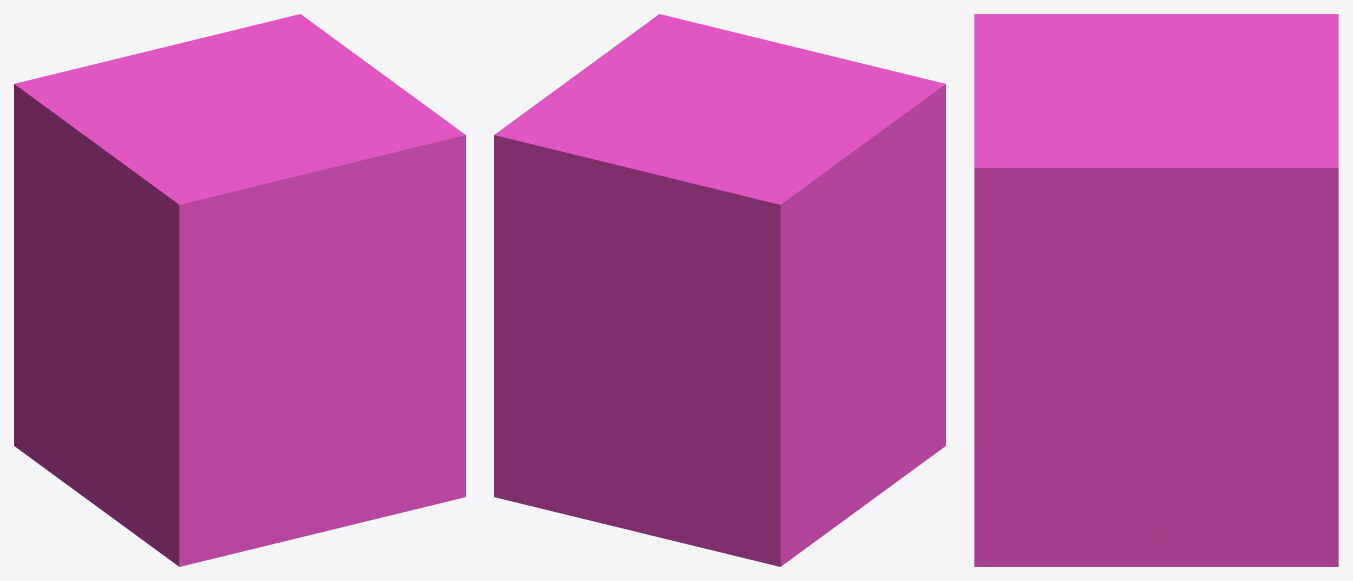
File: mortar.glb
3 views of the same model, side by side, from view 1: azimuth 30°, elevation 25°; view 2: azimuth 150°, elevation 25°; view 3: azimuth 270°, elevation 25° (orthographic). The views are drawn at different scales.
Visible parts, largest first — view 1: COL_BOX_BODY; view 2: COL_BOX_BODY; view 3: COL_BOX_BODY.
Boxes of the visible parts, box(x1,y1,x2,y2) form: COL_BOX_BODY: box(14, 14, 465, 566); COL_BOX_BODY: box(494, 14, 945, 566); COL_BOX_BODY: box(974, 14, 1338, 566).
Bounding box in the file's own units: 1.2 × 1.45 × 1.2.
